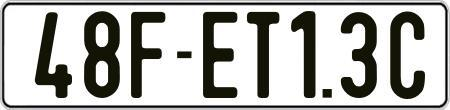1: (289, 10, 316, 100)
3: (340, 11, 381, 101)
4: (34, 12, 74, 100)
8: (84, 10, 126, 103)
C: (389, 9, 430, 101)
E: (202, 9, 240, 101)
F: (128, 10, 165, 101)
T: (246, 9, 278, 100)
